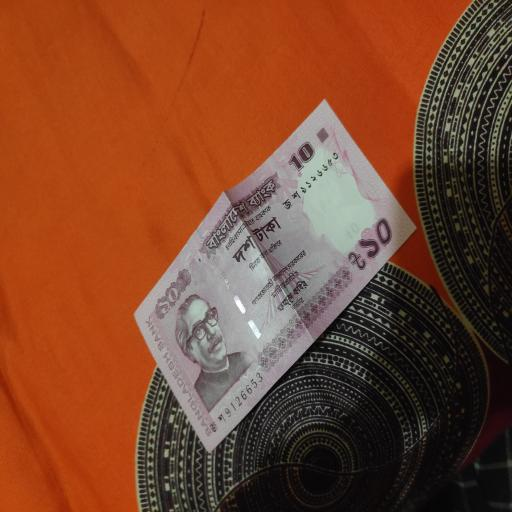10taka: (134, 99, 415, 454)
